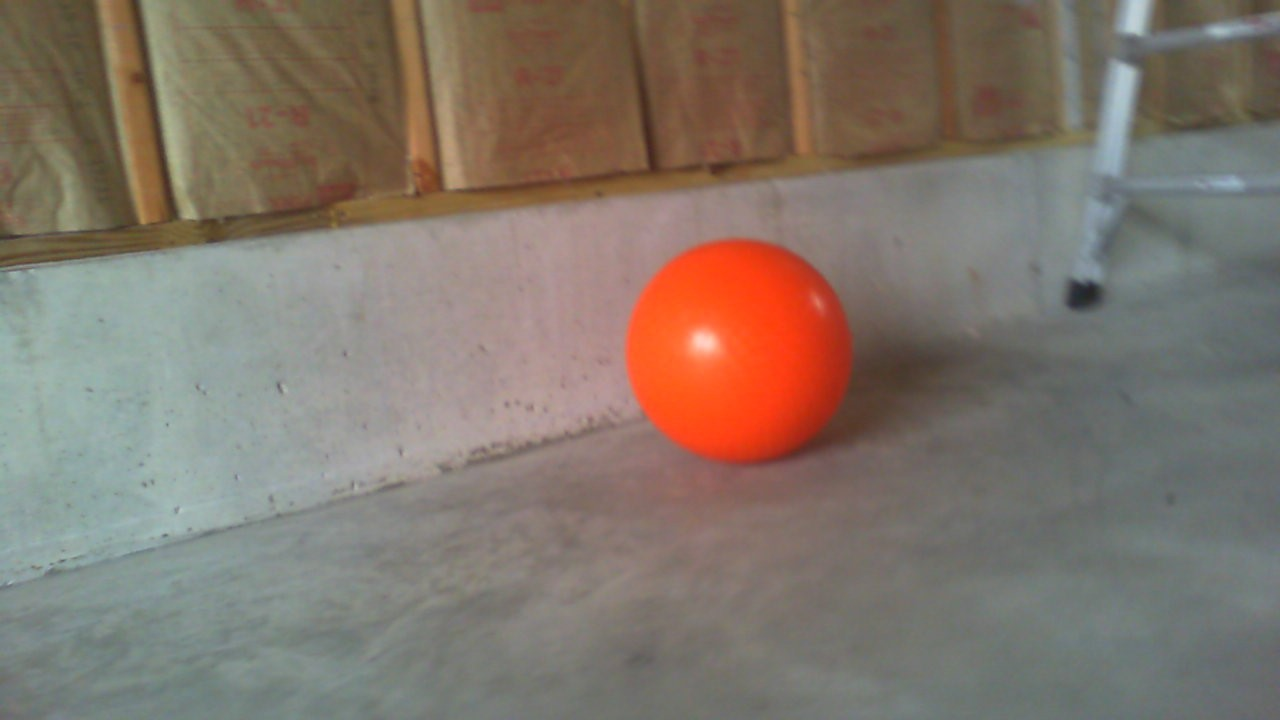Ball: (625, 239, 853, 466)
